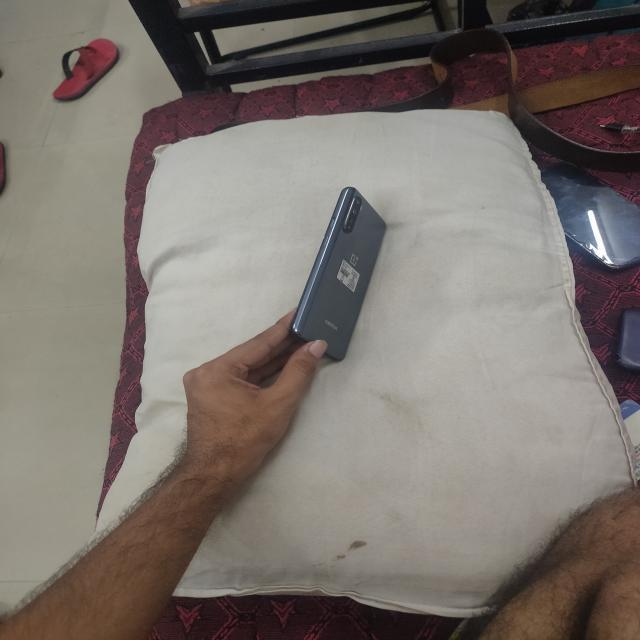Phone: (284, 184, 390, 369)
